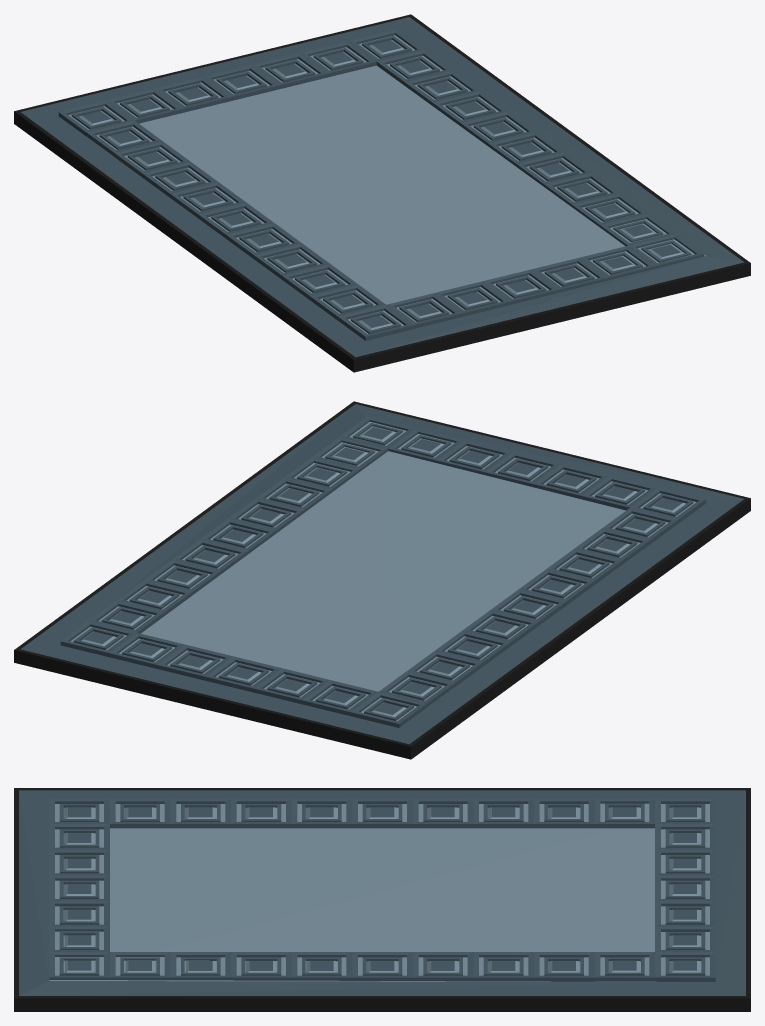
The model's file is Rug3.glb.
3 views of the same model, one above another, from view 1: azimuth 30°, elevation 25°; view 2: azimuth 150°, elevation 25°; view 3: azimuth 270°, elevation 25° (orthographic). The views are drawn at different scales.
Parts seen in each view (by area): view 1: Node; view 2: Node; view 3: Node.
Part boxes in pixels (left/top/right/bottom): Node: left=14, top=14, right=750, bottom=372; Node: left=14, top=401, right=750, bottom=759; Node: left=14, top=788, right=750, bottom=1011.
Size of the model in its own units: 1.97 by 0.0803 by 2.92.
